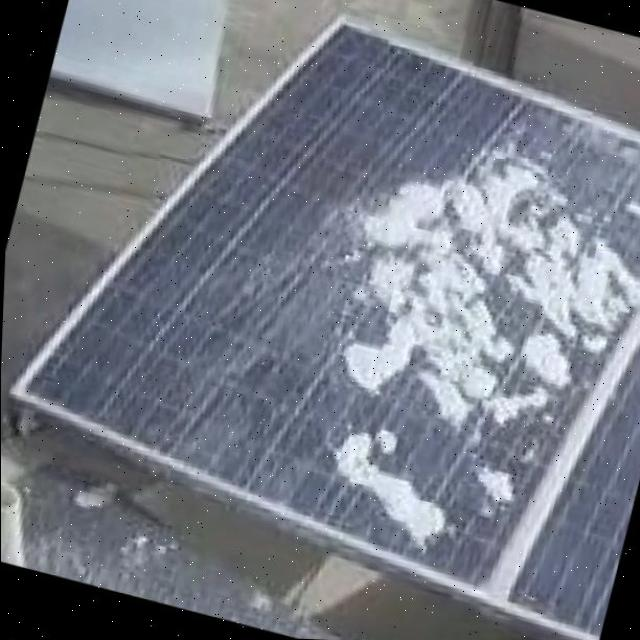Anomaly Solar Panel: (16, 22, 640, 599)
Snow: (248, 69, 640, 537), (318, 415, 458, 572)
